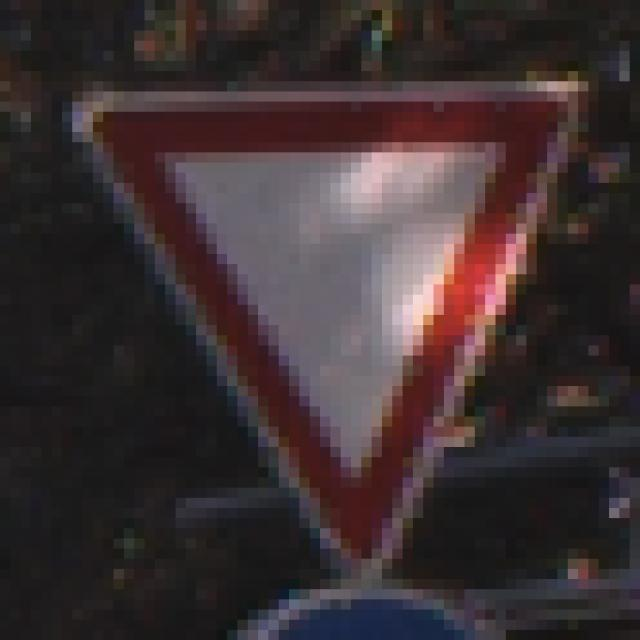Give Way: (53, 62, 590, 590)
